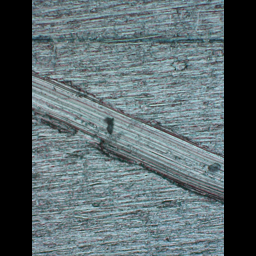d: (32, 65, 223, 208)
